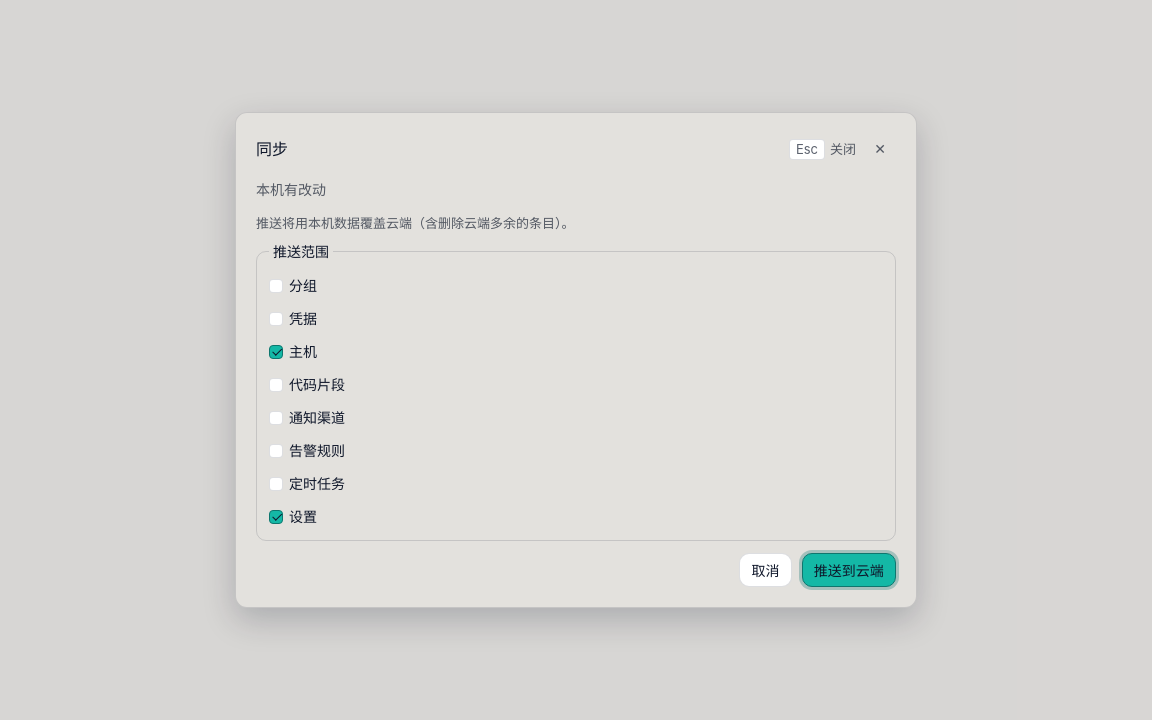
Test: SyncDialog › push 态：默认范围取 push 偏好，取消勾选后 setScope+push 按勾选范围执行 → 完成面
The image size is (1152, 720).
Expected: the element with test id "sync-push-panel" is shown, 256,180 -> 896,586
Expected: the checkbox with test id "push-scope-hosts" is checked, 269,345 -> 283,359
Step 1. Click the checkbox with test id "push-scope-settings" → (276, 517), box 269,510 -> 283,524
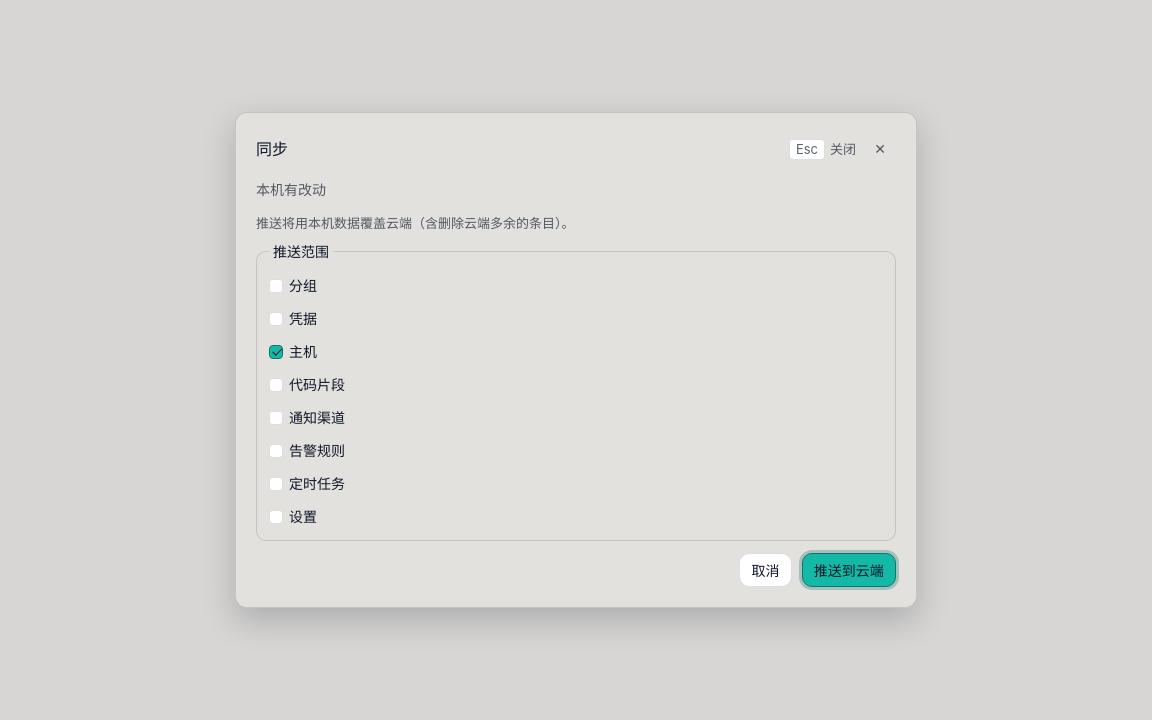
Step 2. Click the button with test id "sync-push-start" → (849, 570), box 802,553 -> 896,586
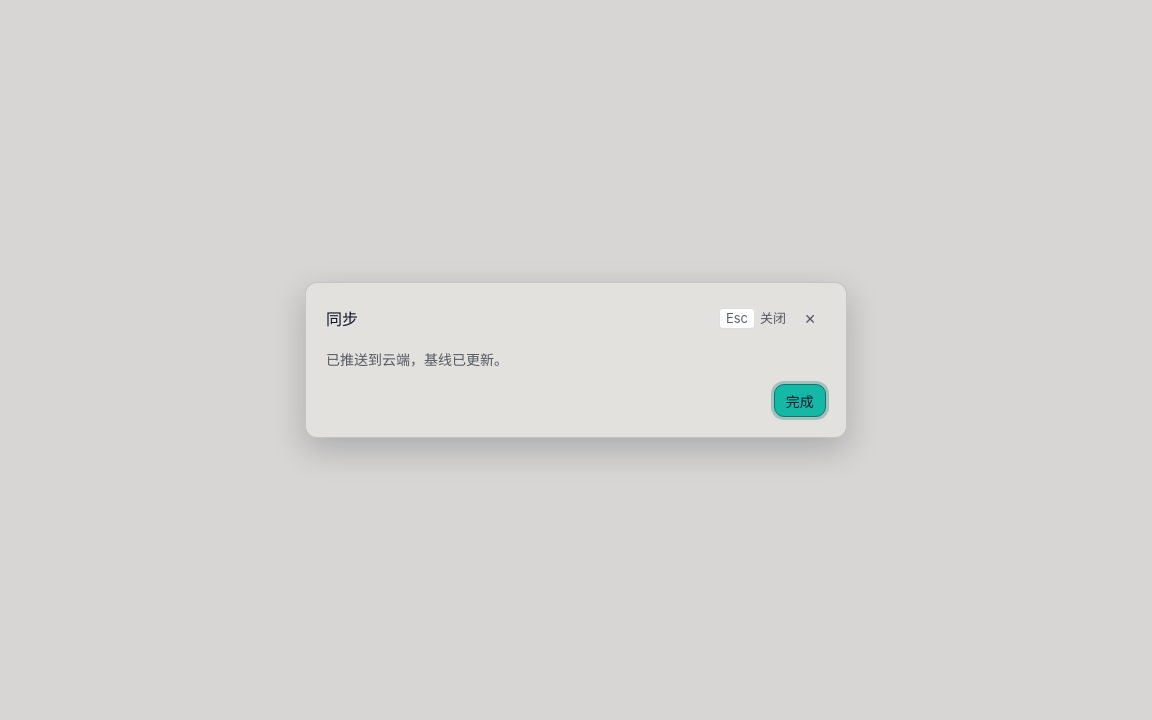
Now the text with test id "sync-done-text" shows "推送", box 326,351 -> 508,368
